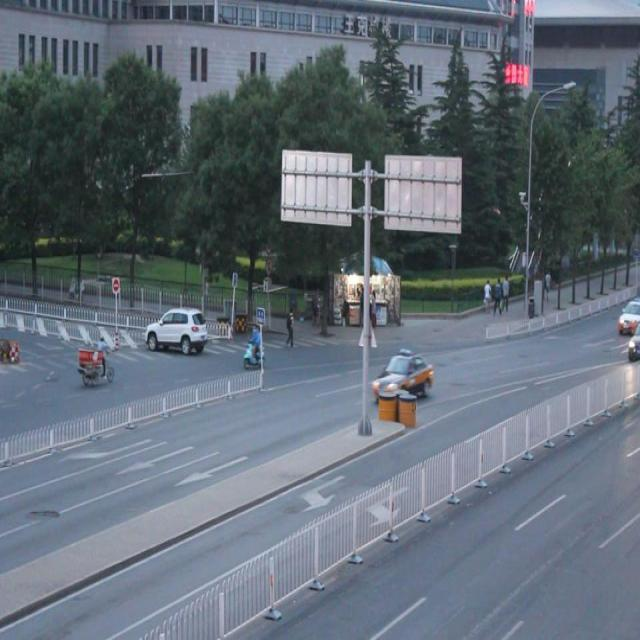car: (374, 351, 433, 399), (145, 308, 206, 354)
